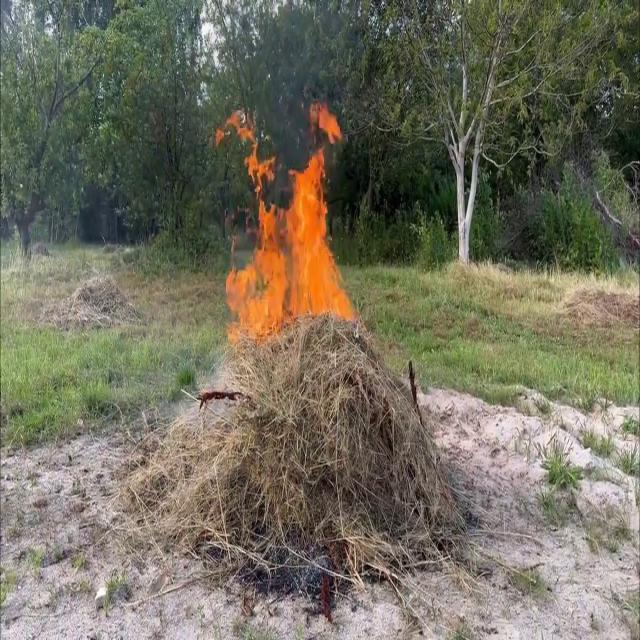Fire: (218, 100, 354, 344)
